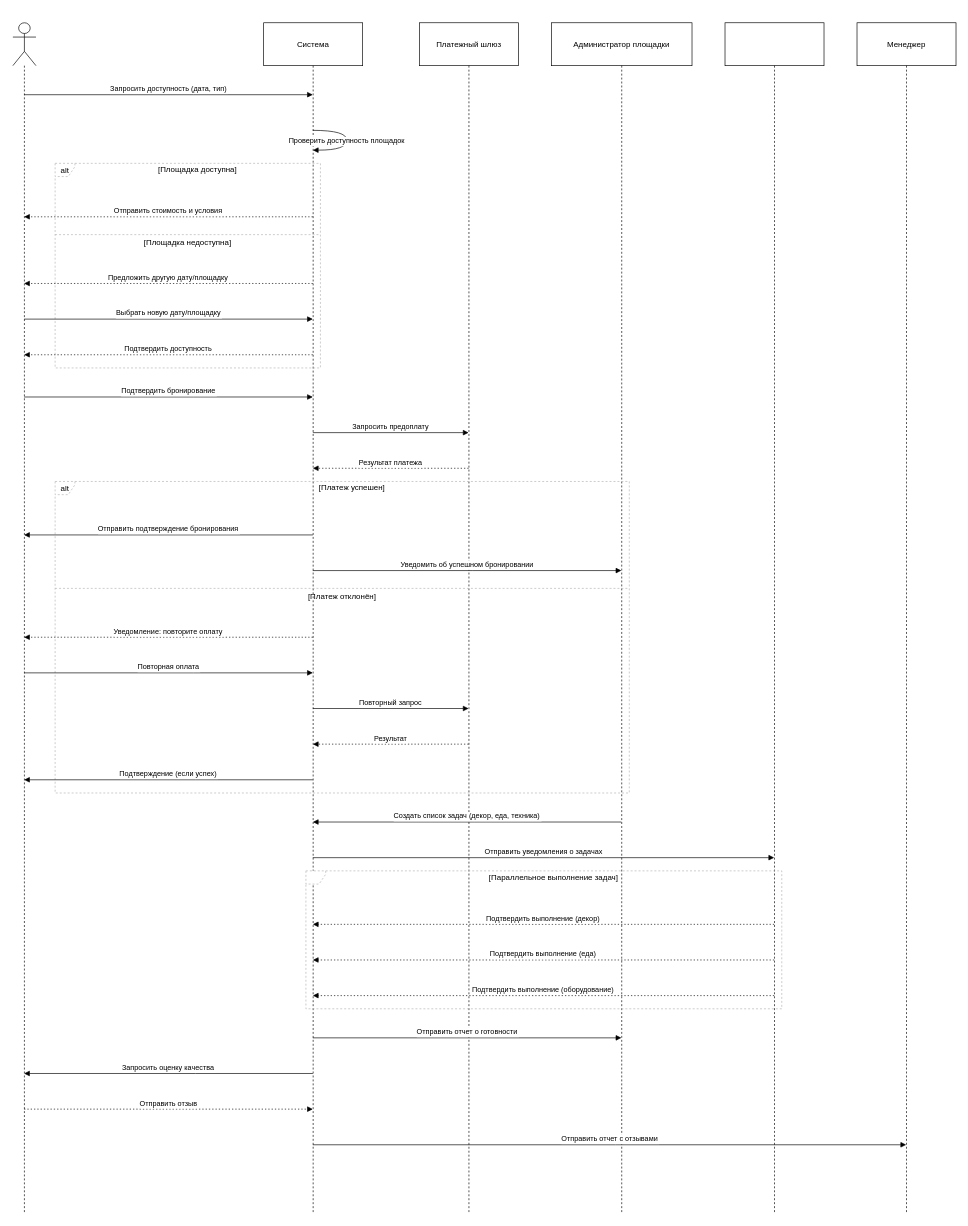
Some shapes in this 968 by 1226 pixel diagram are drawn without their labels. Here are the shapes that lost their labels. From the top down, the box of each, then its label:
(12, 22, 36, 1214): Клиент
(724, 22, 824, 1214): Подрядчики
(305, 870, 782, 1009): par
